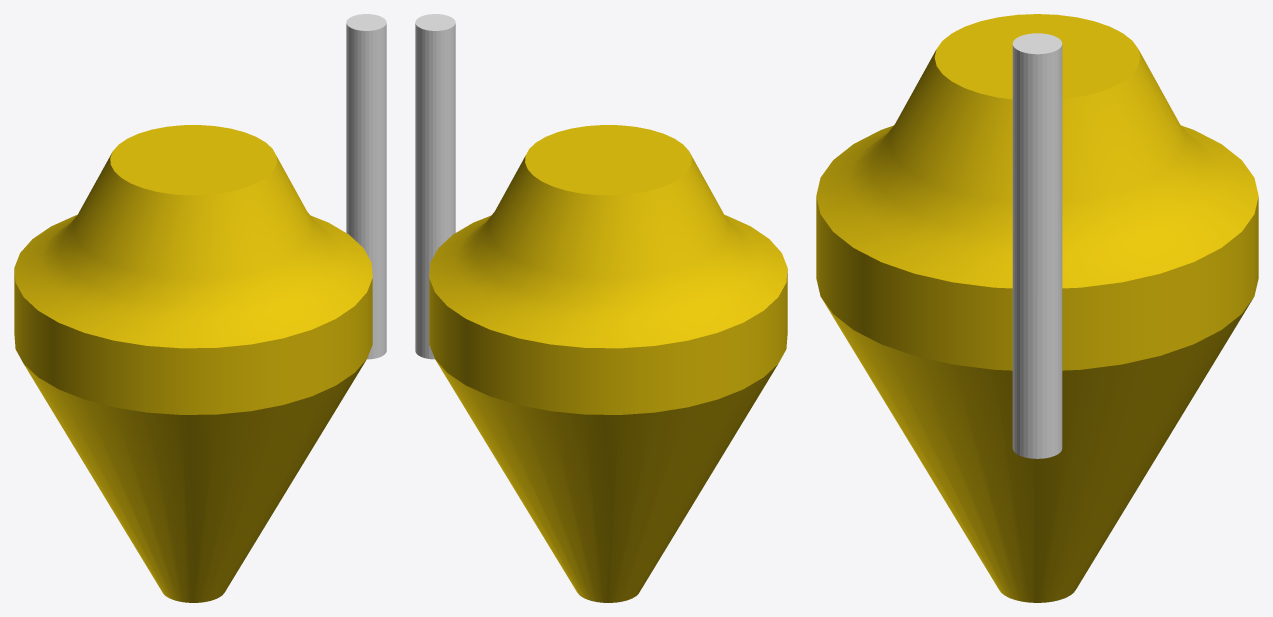
The model's file is Boje.fbx.
3 views of the same model, side by side, from view 1: azimuth 30°, elevation 25°; view 2: azimuth 150°, elevation 25°; view 3: azimuth 270°, elevation 25° (orthographic). The views are drawn at different scales.
Visible parts, largest first — view 1: Cylinder.007, Cylinder.008; view 2: Cylinder.007, Cylinder.008; view 3: Cylinder.007, Cylinder.008.
Part boxes in pixels (x1,y1,x2,y2): Cylinder.007: (14, 125, 372, 602); Cylinder.008: (346, 14, 386, 359); Cylinder.007: (429, 125, 787, 602); Cylinder.008: (415, 14, 455, 359); Cylinder.007: (816, 14, 1258, 602); Cylinder.008: (1012, 33, 1062, 458).
Size of the model in its own units: 133 by 193 by 120.
